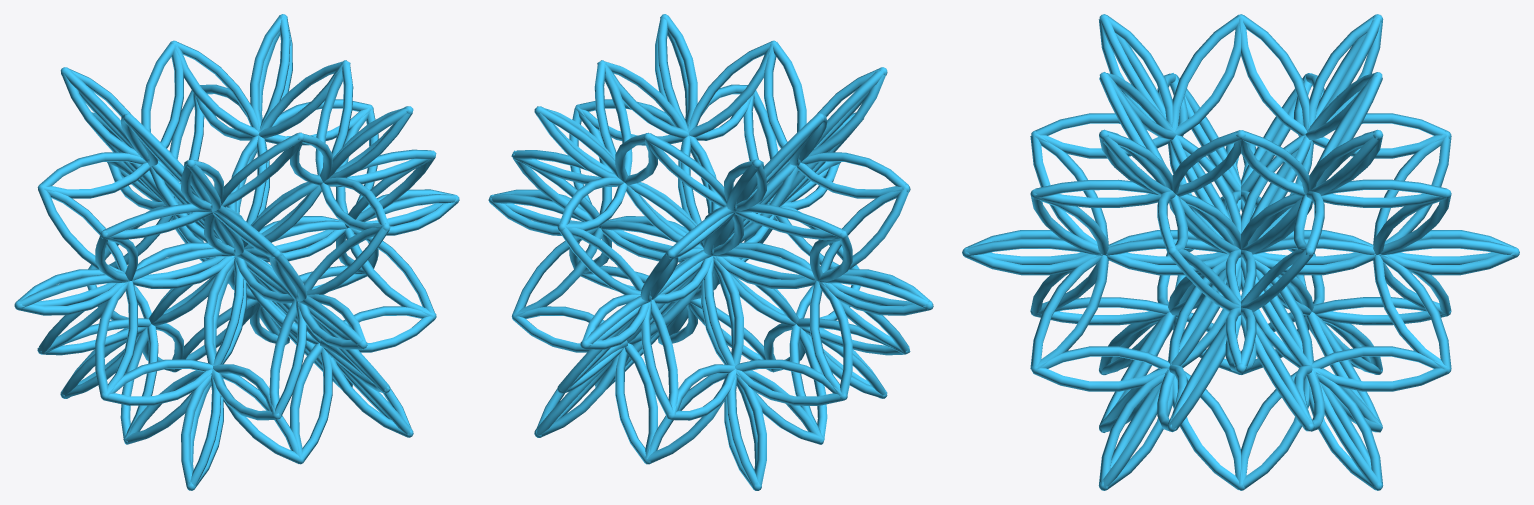
File: floweroflifesnowflake3d1.glb
3 renders of one model, left to right at view 1: azimuth 30°, elevation 25°; view 2: azimuth 150°, elevation 25°; view 3: azimuth 270°, elevation 25°, orthographic. The views are drawn at different scales.
Visible parts, largest first — view 1: Mesh_0.196, Mesh_0.182, Mesh_0.162, Mesh_0.163, Mesh_0.174, Mesh_0.113, Mesh_0.172, Mesh_0.144, Mesh_0.122, Mesh_0.167, Mesh_0.168, Mesh_0.183 (+94 smaller); view 2: Mesh_0.007, Mesh_0.043, Mesh_0.048, Mesh_0.049, Mesh_0.035, Mesh_0.119, Mesh_0.033, Mesh_0.129, Mesh_0.127, Mesh_0.014, Mesh_0.044, Mesh_0.011 (+95 smaller); view 3: Mesh_0.080, Mesh_0.087, Mesh_0.059, Mesh_0.070, Mesh_0.060, Mesh_0.097, Mesh_0.050, Mesh_0.064, Mesh_0.078, Mesh_0.079, Mesh_0.090, Mesh_0.088 (+104 smaller).
Part boxes in pixels (x1,y1,x2,y2): Mesh_0.196: (176,42,260,131); Mesh_0.182: (174,44,258,137); Mesh_0.162: (302,347,332,461); Mesh_0.163: (95,282,128,396); Mesh_0.174: (107,281,137,395); Mesh_0.113: (274,301,306,416); Mesh_0.172: (181,369,213,486); Mesh_0.144: (269,299,296,414); Mesh_0.122: (188,368,221,487); Mesh_0.167: (104,369,211,405); Mesh_0.168: (39,152,146,187); Mesh_0.183: (250,15,284,132); Mesh_0.007: (687,42,771,131); Mesh_0.043: (688,44,773,137); Mesh_0.048: (615,347,645,462); Mesh_0.049: (819,282,852,396); Mesh_0.035: (810,281,840,395); Mesh_0.119: (641,301,673,417); Mesh_0.033: (734,369,766,487); Mesh_0.129: (651,299,678,414); Mesh_0.127: (727,368,759,487); Mesh_0.014: (736,369,842,405); Mesh_0.044: (663,15,697,132); Mesh_0.011: (801,152,908,187); Mesh_0.080: (1311,346,1446,368); Mesh_0.087: (1035,346,1170,368); Mesh_0.059: (1033,368,1167,391); Mesh_0.070: (1314,368,1448,391); Mesh_0.060: (1030,255,1101,368); Mesh_0.097: (1380,255,1451,368); Mesh_0.050: (1241,15,1310,130); Mesh_0.064: (1171,15,1240,130); Mesh_0.078: (1379,252,1516,275); Mesh_0.079: (1373,254,1445,369); Mesh_0.090: (966,252,1102,275); Mesh_0.088: (1036,255,1108,369).
Size of the model in its own units: 6.12 by 4.36 by 6.12.
